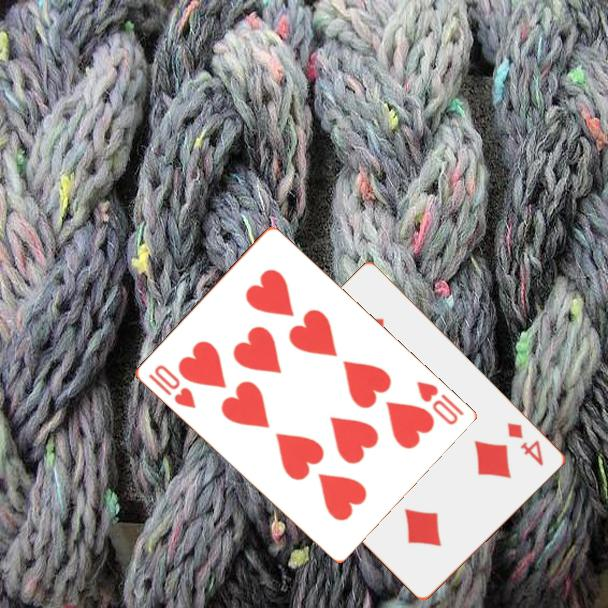d04: (504, 419, 547, 469)
h10: (145, 361, 199, 412), (413, 378, 467, 428)
